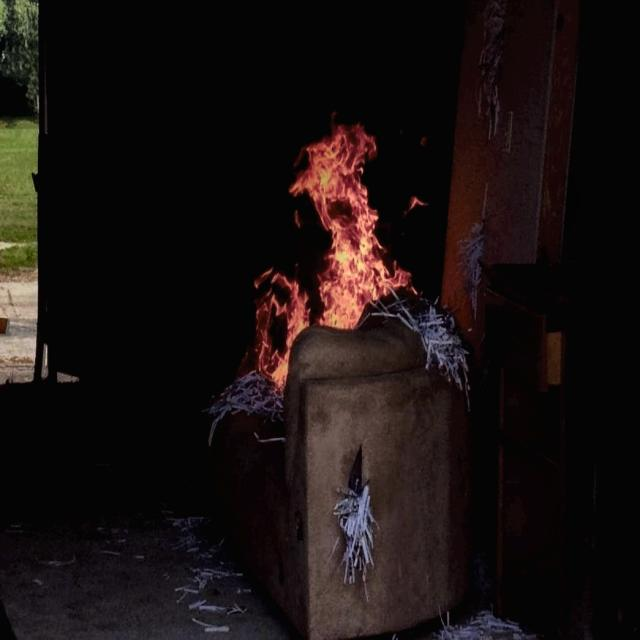fire: (232, 105, 414, 414)
